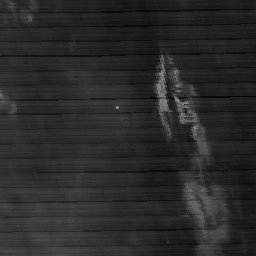Target: (113, 104, 121, 112)
